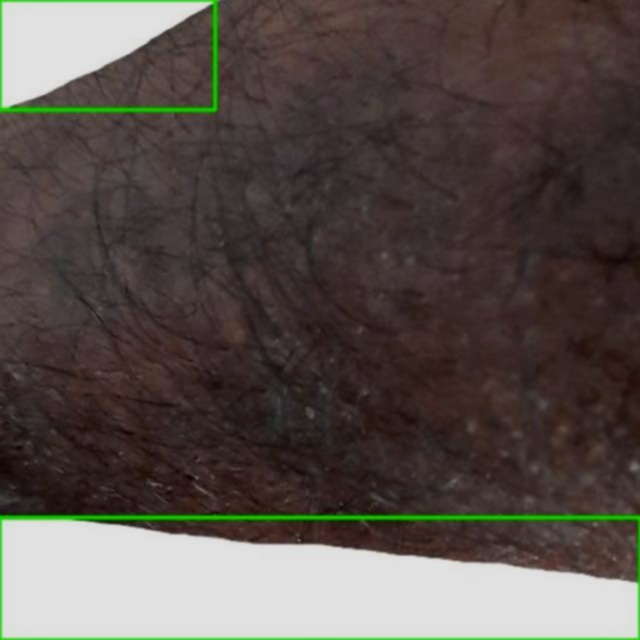Contact Dermatitis: (0, 517, 639, 639), (0, 0, 215, 110)
